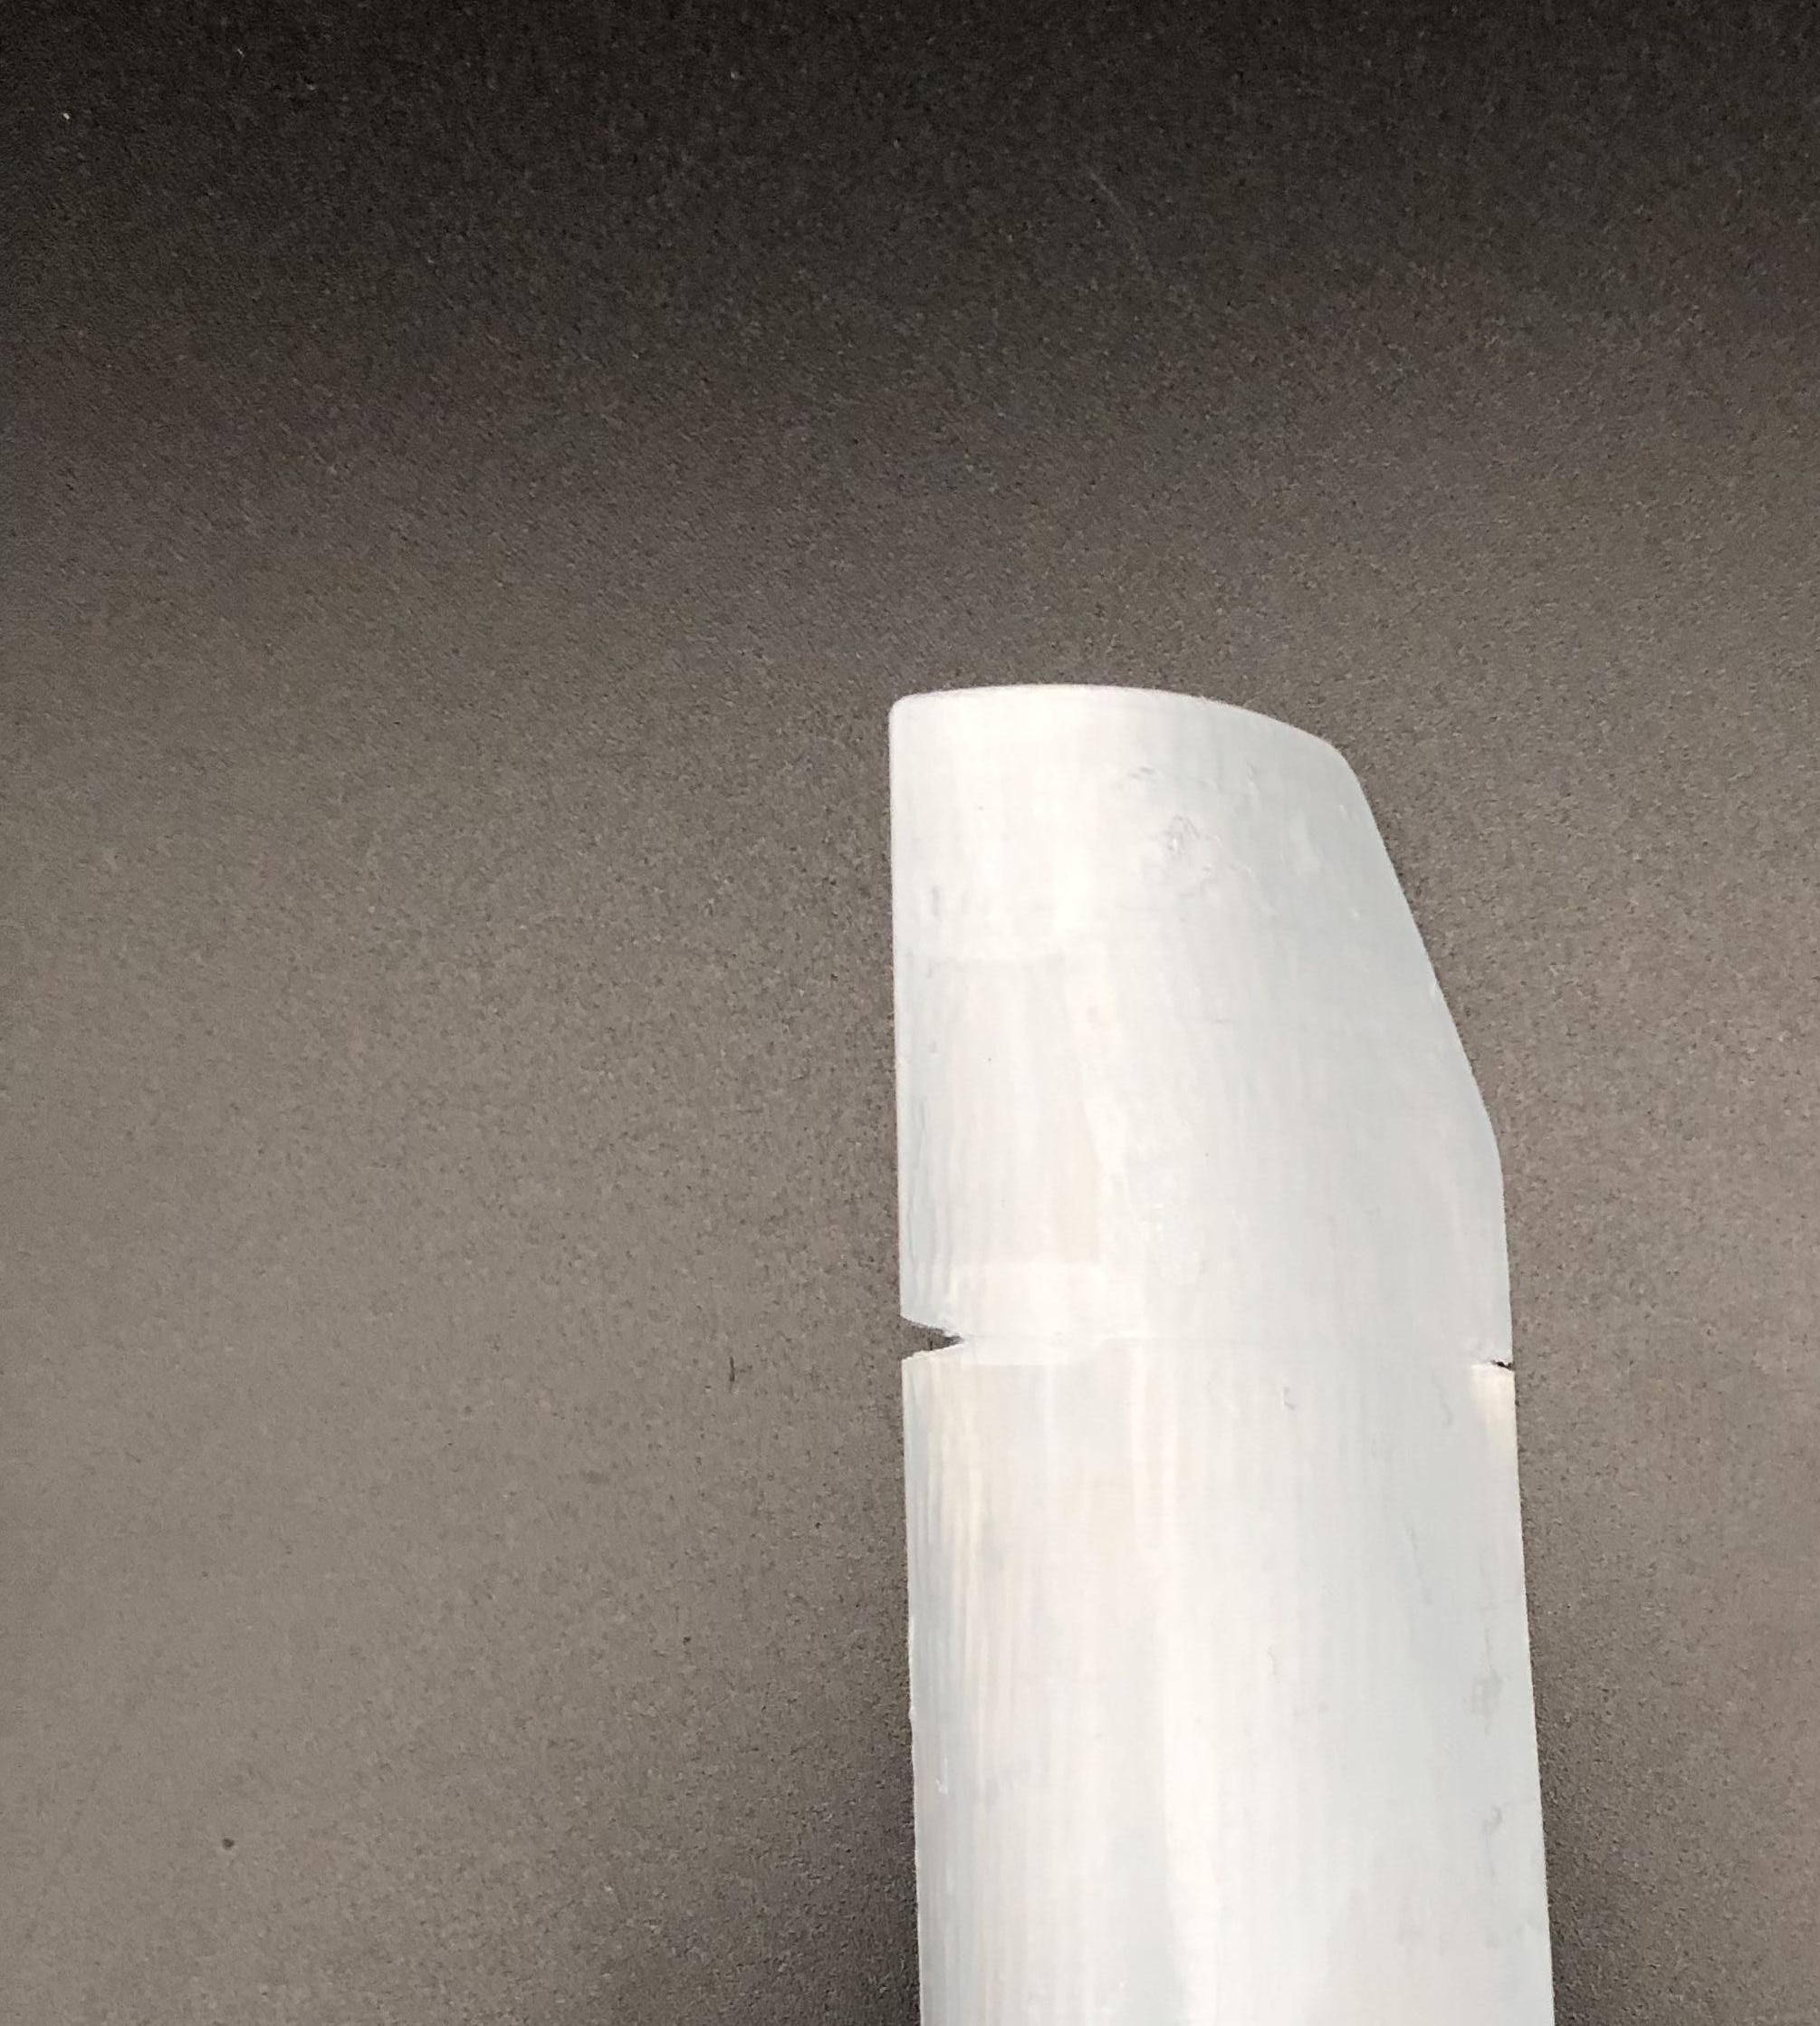groove: (899, 1299, 982, 1386), (1476, 1341, 1520, 1397)
